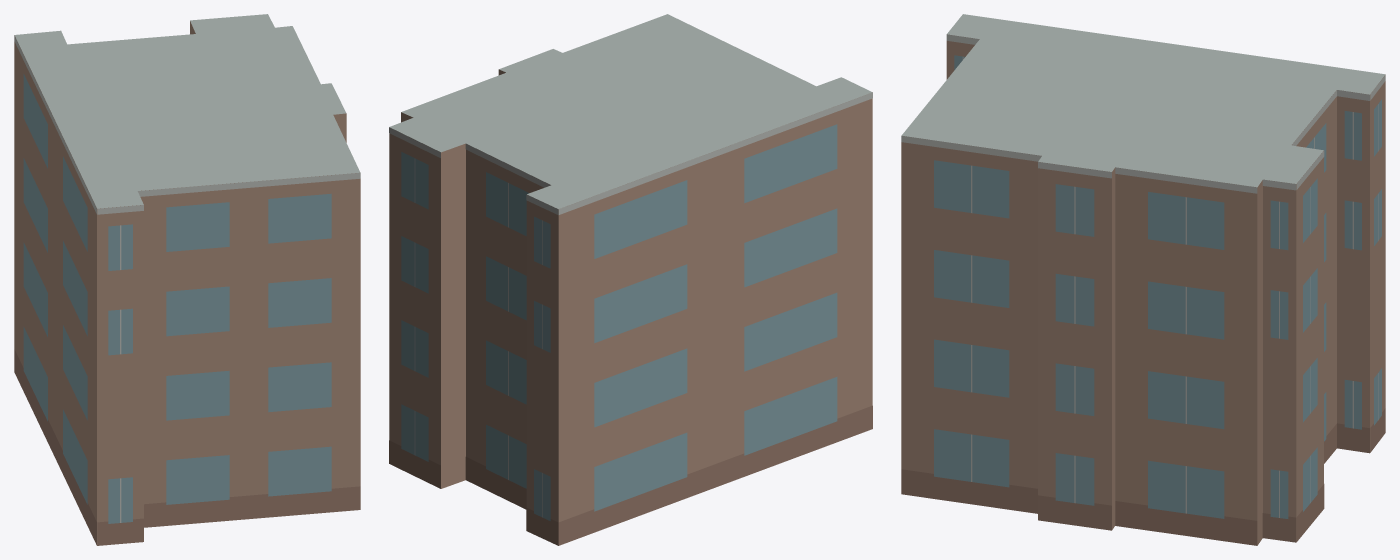
Rendered from survey-upis-33031225.glb.
3 renders of one model, left to right at view 1: azimuth 30°, elevation 25°; view 2: azimuth 150°, elevation 25°; view 3: azimuth 270°, elevation 25°, orthographic. The views are drawn at different scales.
Parts seen in each view (by area): view 1: survey-upis-33031225.tmp; view 2: survey-upis-33031225.tmp; view 3: survey-upis-33031225.tmp.
Part boxes in pixels (x1,y1,x2,y2): survey-upis-33031225.tmp: (14,14,360,545); survey-upis-33031225.tmp: (389,14,872,545); survey-upis-33031225.tmp: (901,14,1385,545).
Bounding box in the file's own units: 14.11 × 13.6 × 16.65.
